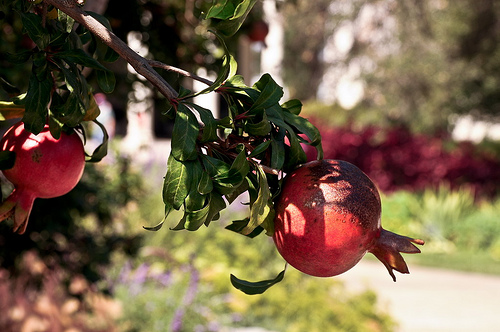pomogranate: (269, 157, 425, 284), (2, 119, 86, 237)
